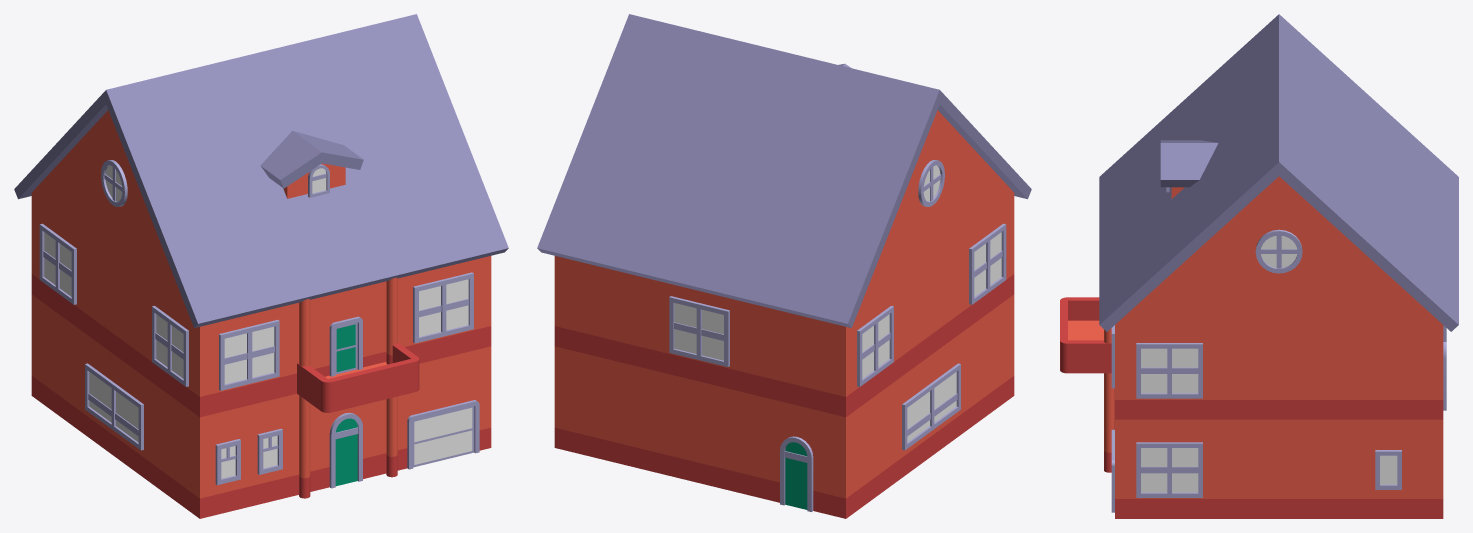
Rendered from house.fbx.
3 views of the same model, side by side, from view 1: azimuth 30°, elevation 25°; view 2: azimuth 150°, elevation 25°; view 3: azimuth 270°, elevation 25° (orthographic). The views are drawn at different scales.
Parts seen in each view (by area): view 1: mergedBlocks; view 2: mergedBlocks; view 3: mergedBlocks.
Boxes of the visible parts, bbox=[...] form: mergedBlocks: bbox=[14, 14, 508, 518]; mergedBlocks: bbox=[537, 14, 1031, 518]; mergedBlocks: bbox=[1060, 14, 1458, 518].
Size of the model in its own units: 32 by 36.41 by 36.41.
